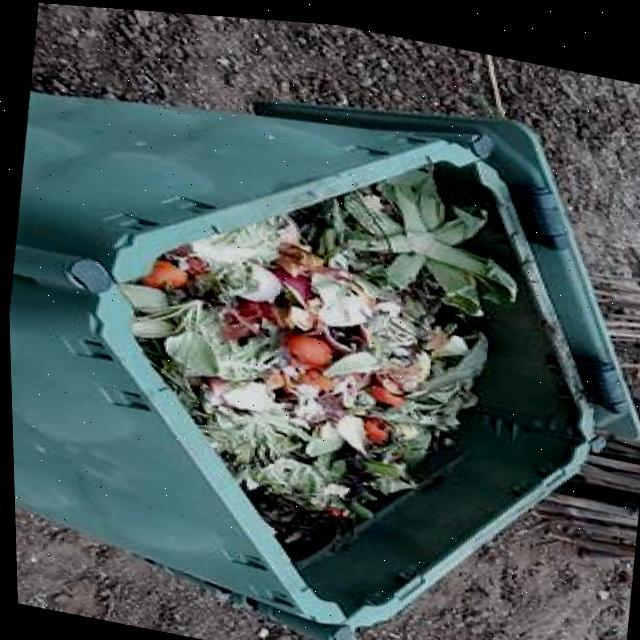Garbage: (117, 159, 516, 550)
Plastic_Bag: (240, 484, 351, 555)
